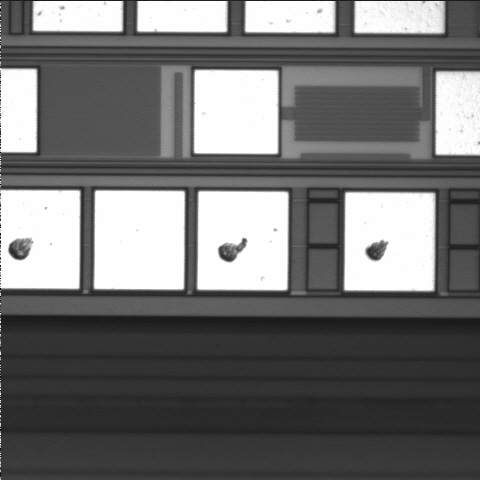pad: (197, 191, 288, 290), (94, 191, 185, 289), (344, 193, 435, 291), (194, 70, 278, 154)
